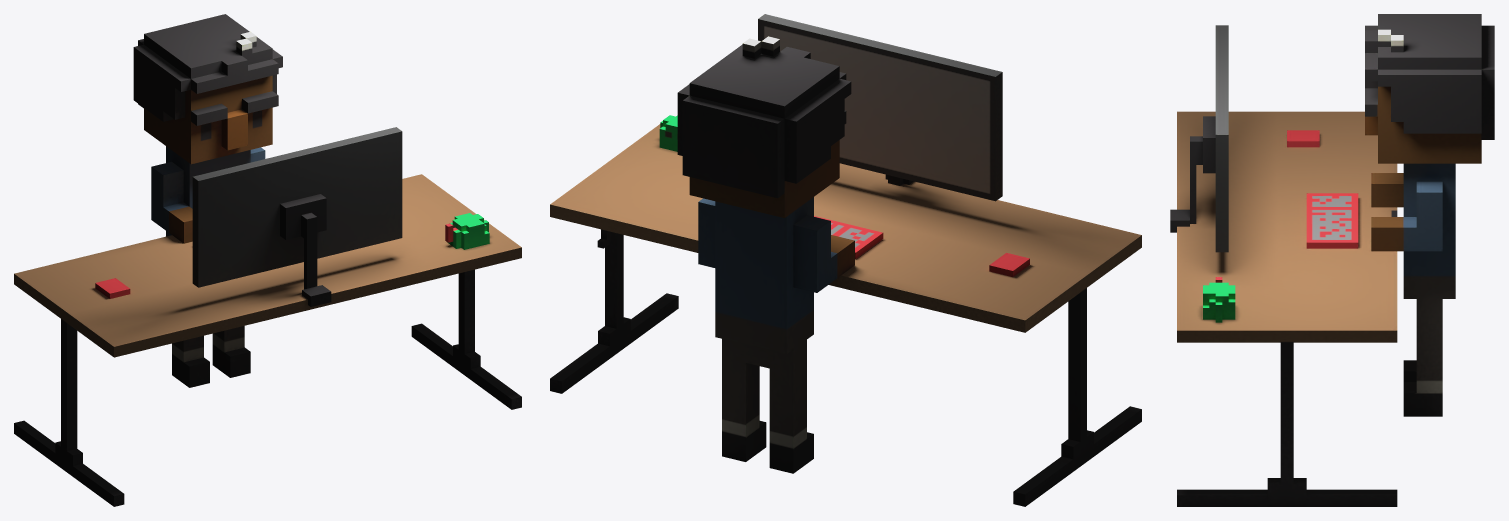
Rendered from david.glb.
3 renders of one model, left to right at view 1: azimuth 30°, elevation 25°; view 2: azimuth 150°, elevation 25°; view 3: azimuth 270°, elevation 25°, orthographic. The views are drawn at different scales.
Parts seen in each view (by area): view 1: Untitled; view 2: Untitled; view 3: Untitled.
Boxes of the visible parts, x1,y1,x2,y2 form: Untitled: [14, 14, 521, 506]; Untitled: [550, 14, 1141, 506]; Untitled: [1170, 14, 1494, 506].
Size of what is drawn, in the model's own units: 8 by 6.4 by 5.
1 material, 1 textured.
